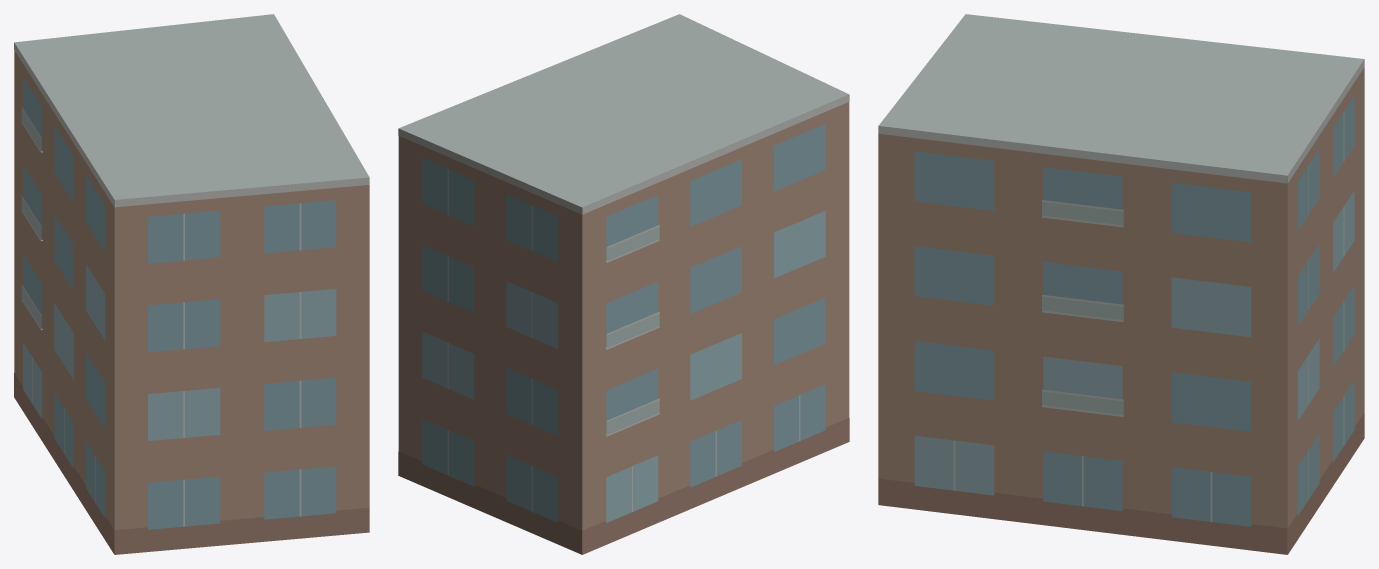
Rendered from survey-upis-32868424.glb.
The picture shows the model from 3 angles, left to right: view 1: azimuth 30°, elevation 25°; view 2: azimuth 150°, elevation 25°; view 3: azimuth 270°, elevation 25°; orthographic projection. The views are drawn at different scales.
Visible parts, largest first — view 1: survey-upis-32868424.tmp; view 2: survey-upis-32868424.tmp; view 3: survey-upis-32868424.tmp.
Part boxes in pixels (bbox=[...]): survey-upis-32868424.tmp: bbox=[14, 14, 369, 554]; survey-upis-32868424.tmp: bbox=[398, 14, 849, 554]; survey-upis-32868424.tmp: bbox=[878, 14, 1364, 554].
Size of the model in its own units: 10.8 by 11.8 by 13.72.
